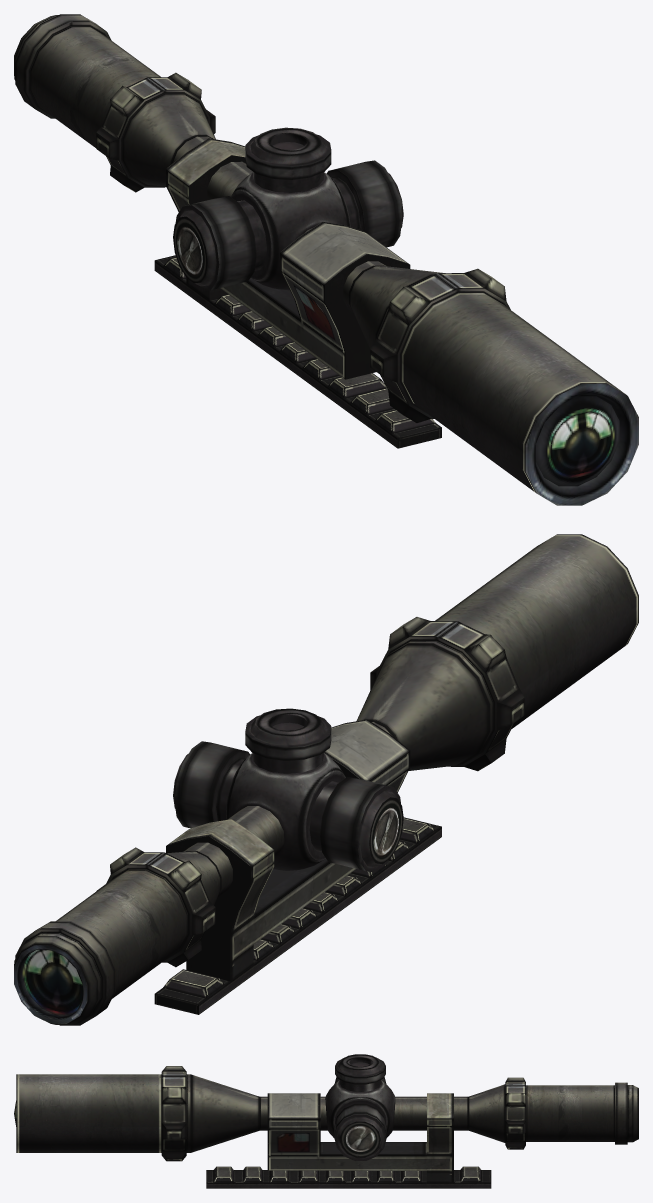
File: SniperRifle_Warfare_Scope_4.FBX
The picture shows the model from 3 angles, top to bottom: view 1: azimuth 30°, elevation 25°; view 2: azimuth 150°, elevation 25°; view 3: azimuth 270°, elevation 25°; orthographic projection. The views are drawn at different scales.
Parts seen in each view (by area): view 1: mesh_scope; view 2: mesh_scope; view 3: mesh_scope.
Part boxes in pixels (left/top/right/bottom): mesh_scope: left=14, top=14, right=638, bottom=505; mesh_scope: left=14, top=534, right=638, bottom=1025; mesh_scope: left=14, top=1054, right=638, bottom=1188.
Size of the model in its own units: 0.1188 by 0.1187 by 0.5596.
